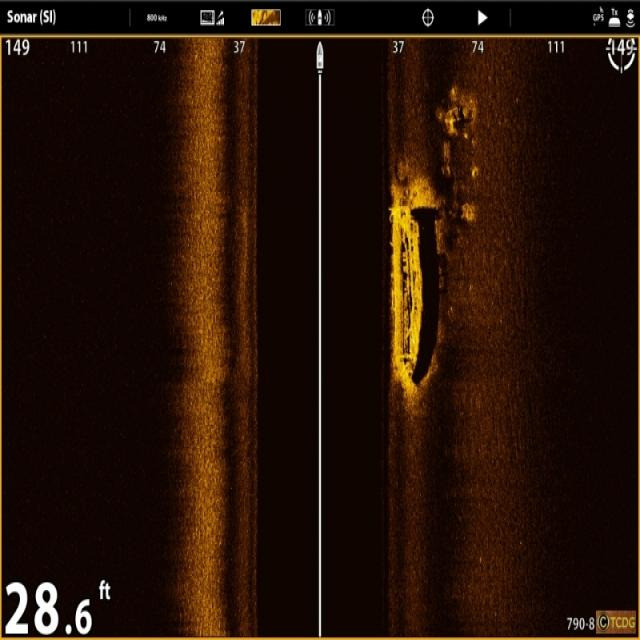ship: (383, 163, 444, 394)
